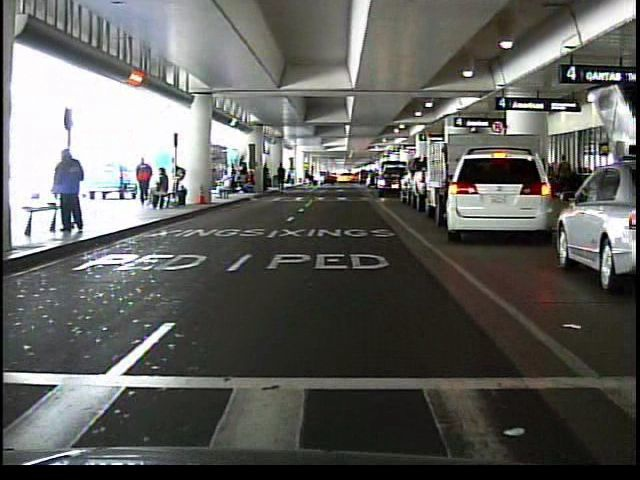person: (55, 144, 93, 236), (214, 169, 233, 205), (304, 163, 318, 192)
